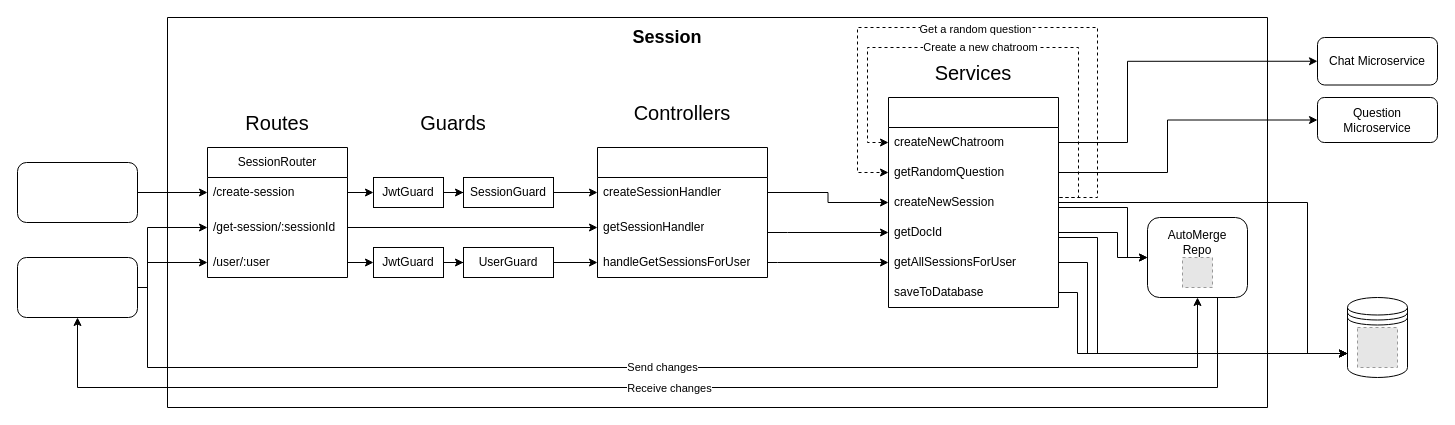
Image size: 1455x425. Some labels were removed from this diagram. Grey dashed boxes stand in for pictures. The box of each missing label's shape, as (x1, y1, x2, y2) in pixels:
Frontend: (16, 256, 138, 318)
Queue Microservice: (16, 162, 138, 222)
SessionController: (596, 146, 768, 278)
SessionManagerService: (888, 96, 1058, 308)
